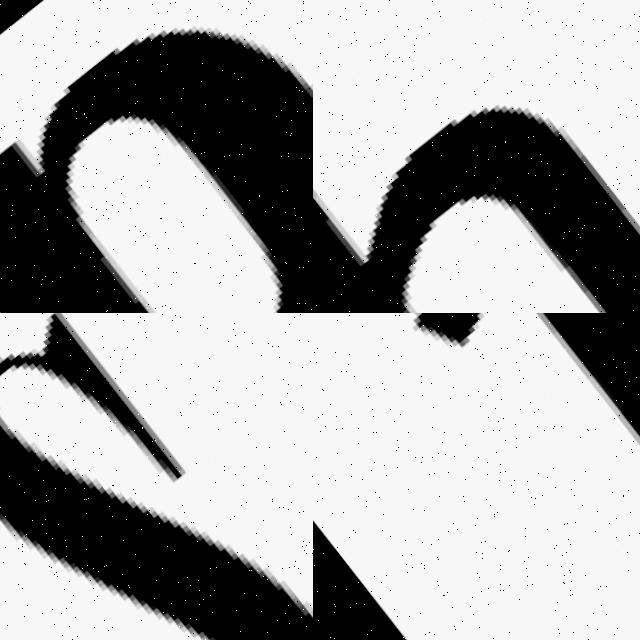1: (321, 313, 640, 635)
H: (313, 110, 640, 313)
P: (0, 34, 313, 313)
S: (0, 313, 313, 640)
